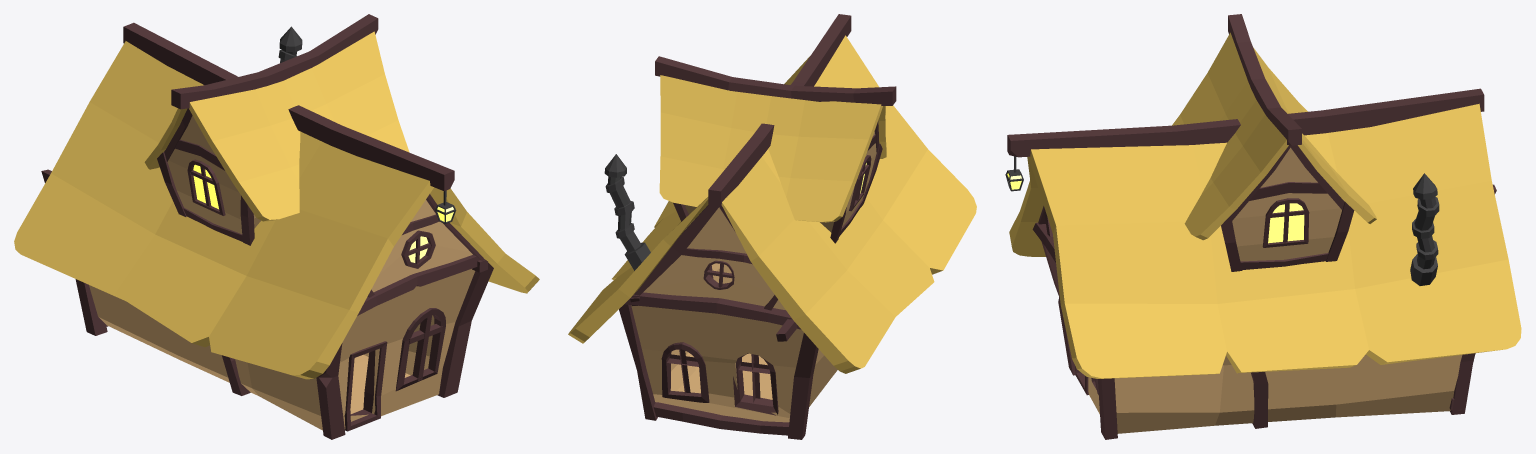
The model's file is house.fbx.
3 renders of one model, left to right at view 1: azimuth 30°, elevation 25°; view 2: azimuth 150°, elevation 25°; view 3: azimuth 270°, elevation 25°, orthographic. The views are drawn at different scales.
Visible parts, largest first — view 1: Cube.003, Cube, Cube.005, Cube.007, Cube.008, Cube.004, Cube.014, Cube.049, Cube.020, Cube.015, Cube.026, Cube.017 (+7 smaller); view 2: Cube.003, Cube.005, Cube, Cube.008, Cube.007, Cube.021, Cylinder.004, Cube.056, Cube.017, Cube.043, Cube.046, Cube.016 (+4 smaller); view 3: Cube.003, Cube, Cube.005, Cube.007, Cube.004, Cube.008, Cylinder.004, Cube.014, Cube.019, Cube.016, Cube.054, Cube.061 (+5 smaller).
Part boxes in pixels (box(x1,y1,x2,y2)): Cube.003: box(14, 41, 539, 379); Cube: box(89, 200, 475, 430); Cube.005: box(144, 31, 409, 221); Cube.007: box(123, 22, 454, 191); Cube.008: box(171, 14, 378, 109); Cube.004: box(167, 115, 260, 233); Cube.014: box(437, 262, 493, 397); Cube.049: box(344, 341, 387, 431); Cube.020: box(357, 255, 479, 315); Cube.015: box(316, 343, 345, 439); Cube.026: box(395, 308, 445, 391); Cube.017: box(75, 279, 107, 335); Cube.003: box(568, 35, 976, 373); Cube.005: box(659, 75, 886, 222); Cube: box(631, 207, 837, 422); Cube.008: box(655, 56, 896, 105); Cube.007: box(708, 14, 851, 206); Cube.021: box(624, 292, 801, 329); Cylinder.004: box(604, 154, 650, 270); Cube.056: box(653, 402, 789, 435); Cube.017: box(788, 333, 818, 439); Cube.043: box(661, 342, 709, 402); Cube.046: box(733, 353, 778, 415); Cube.016: box(619, 304, 657, 420); Cube.003: box(1009, 103, 1521, 378); Cube: box(1088, 354, 1462, 433); Cube.005: box(1172, 32, 1376, 240); Cube.007: box(1007, 88, 1484, 157); Cube.004: box(1232, 147, 1341, 261); Cube.008: box(1228, 14, 1301, 145); Cylinder.004: box(1410, 173, 1439, 285); Cube.014: box(1098, 378, 1117, 439); Cube.019: box(1231, 145, 1344, 220); Cube.016: box(1450, 353, 1475, 414); Cube.054: box(1251, 372, 1268, 428); Cube.061: box(1249, 182, 1327, 200).
Size of the model in its own units: 446 by 375 by 547.
